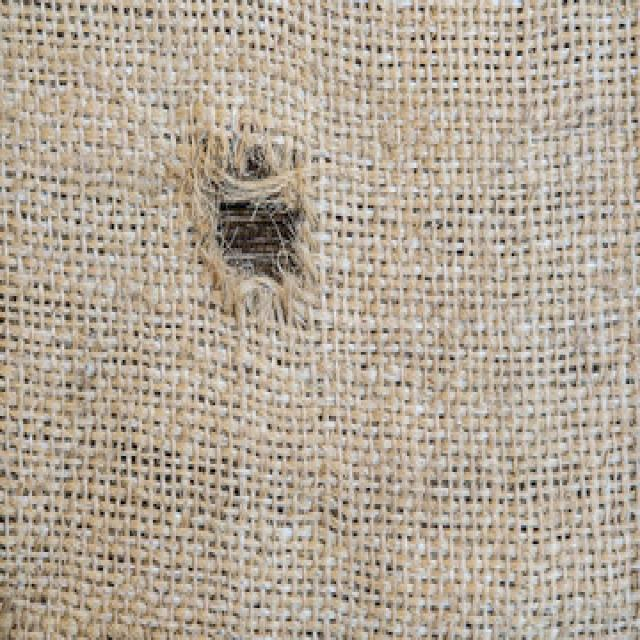seam: (161, 93, 343, 372)
